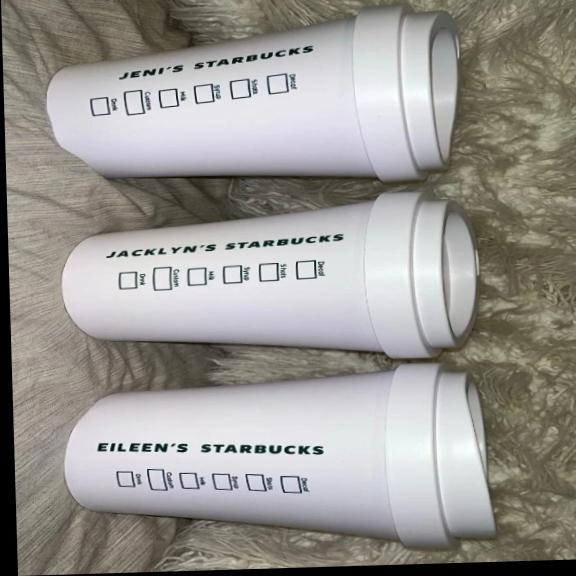Plastik: (65, 363, 494, 548), (47, 6, 457, 181), (62, 193, 477, 358)
